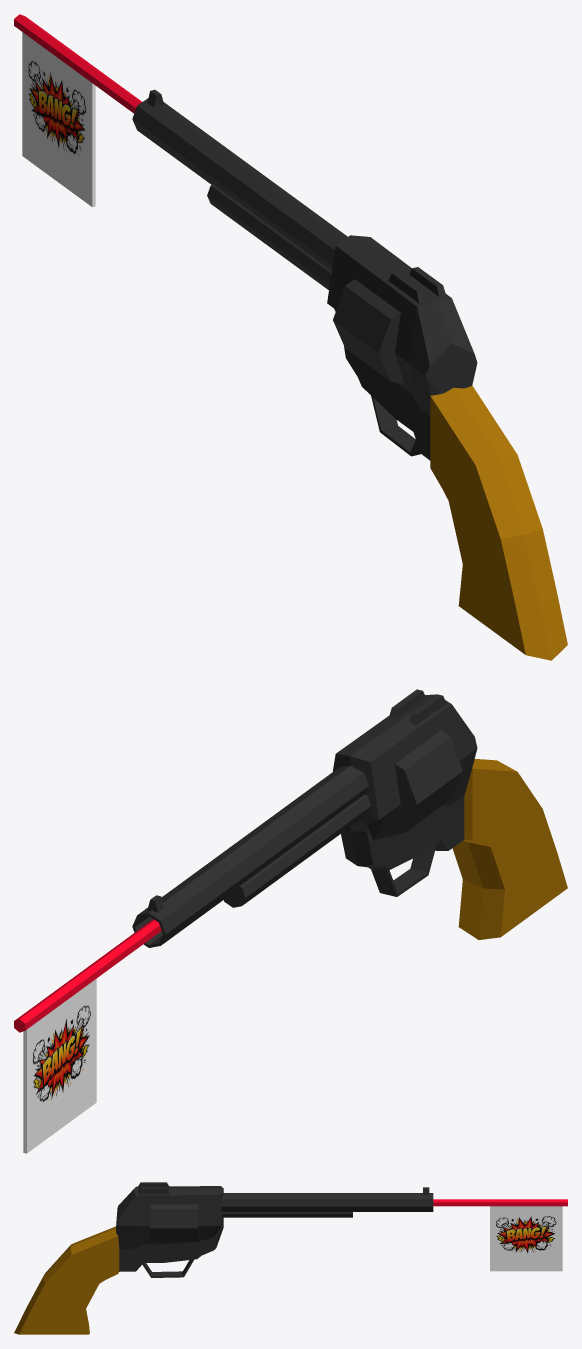
The model's file is Bang-Revolver.fbx.
3 views of the same model, one above another, from view 1: azimuth 30°, elevation 25°; view 2: azimuth 150°, elevation 25°; view 3: azimuth 270°, elevation 25° (orthographic). The views are drawn at different scales.
Parts seen in each view (by area): view 1: Bang!-Revolver, Bang!-Bang!; view 2: Bang!-Revolver, Bang!-Bang!; view 3: Bang!-Revolver, Bang!-Bang!.
Boxes of the visible parts, box(x1,y1,x2,y2) form: Bang!-Revolver: box(132, 89, 567, 660); Bang!-Bang!: box(14, 14, 141, 207); Bang!-Revolver: box(132, 689, 567, 947); Bang!-Bang!: box(14, 919, 161, 1153); Bang!-Revolver: box(14, 1182, 433, 1334); Bang!-Bang!: box(433, 1199, 567, 1271).
Size of the model in its own units: 59.08 by 17.36 by 5.4.
